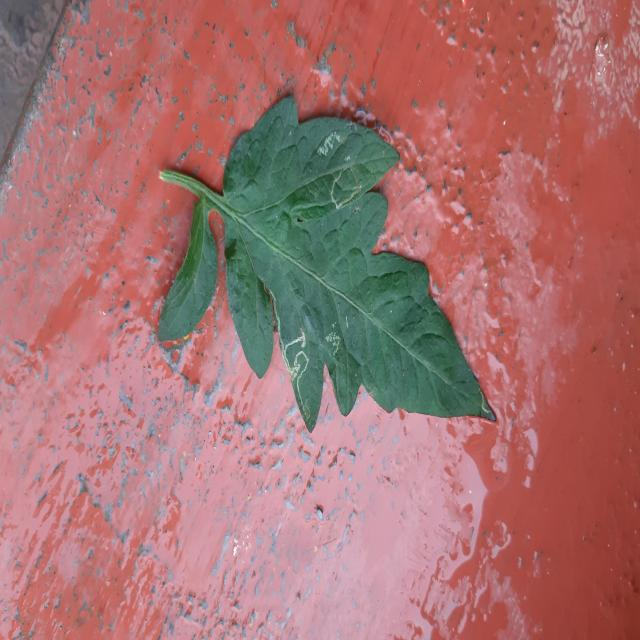tomato: (158, 98, 495, 431)
